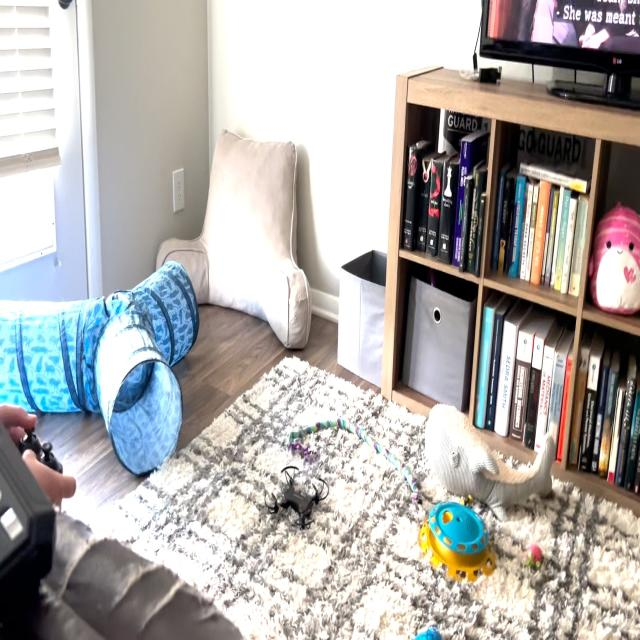drone: (259, 442, 337, 548)
